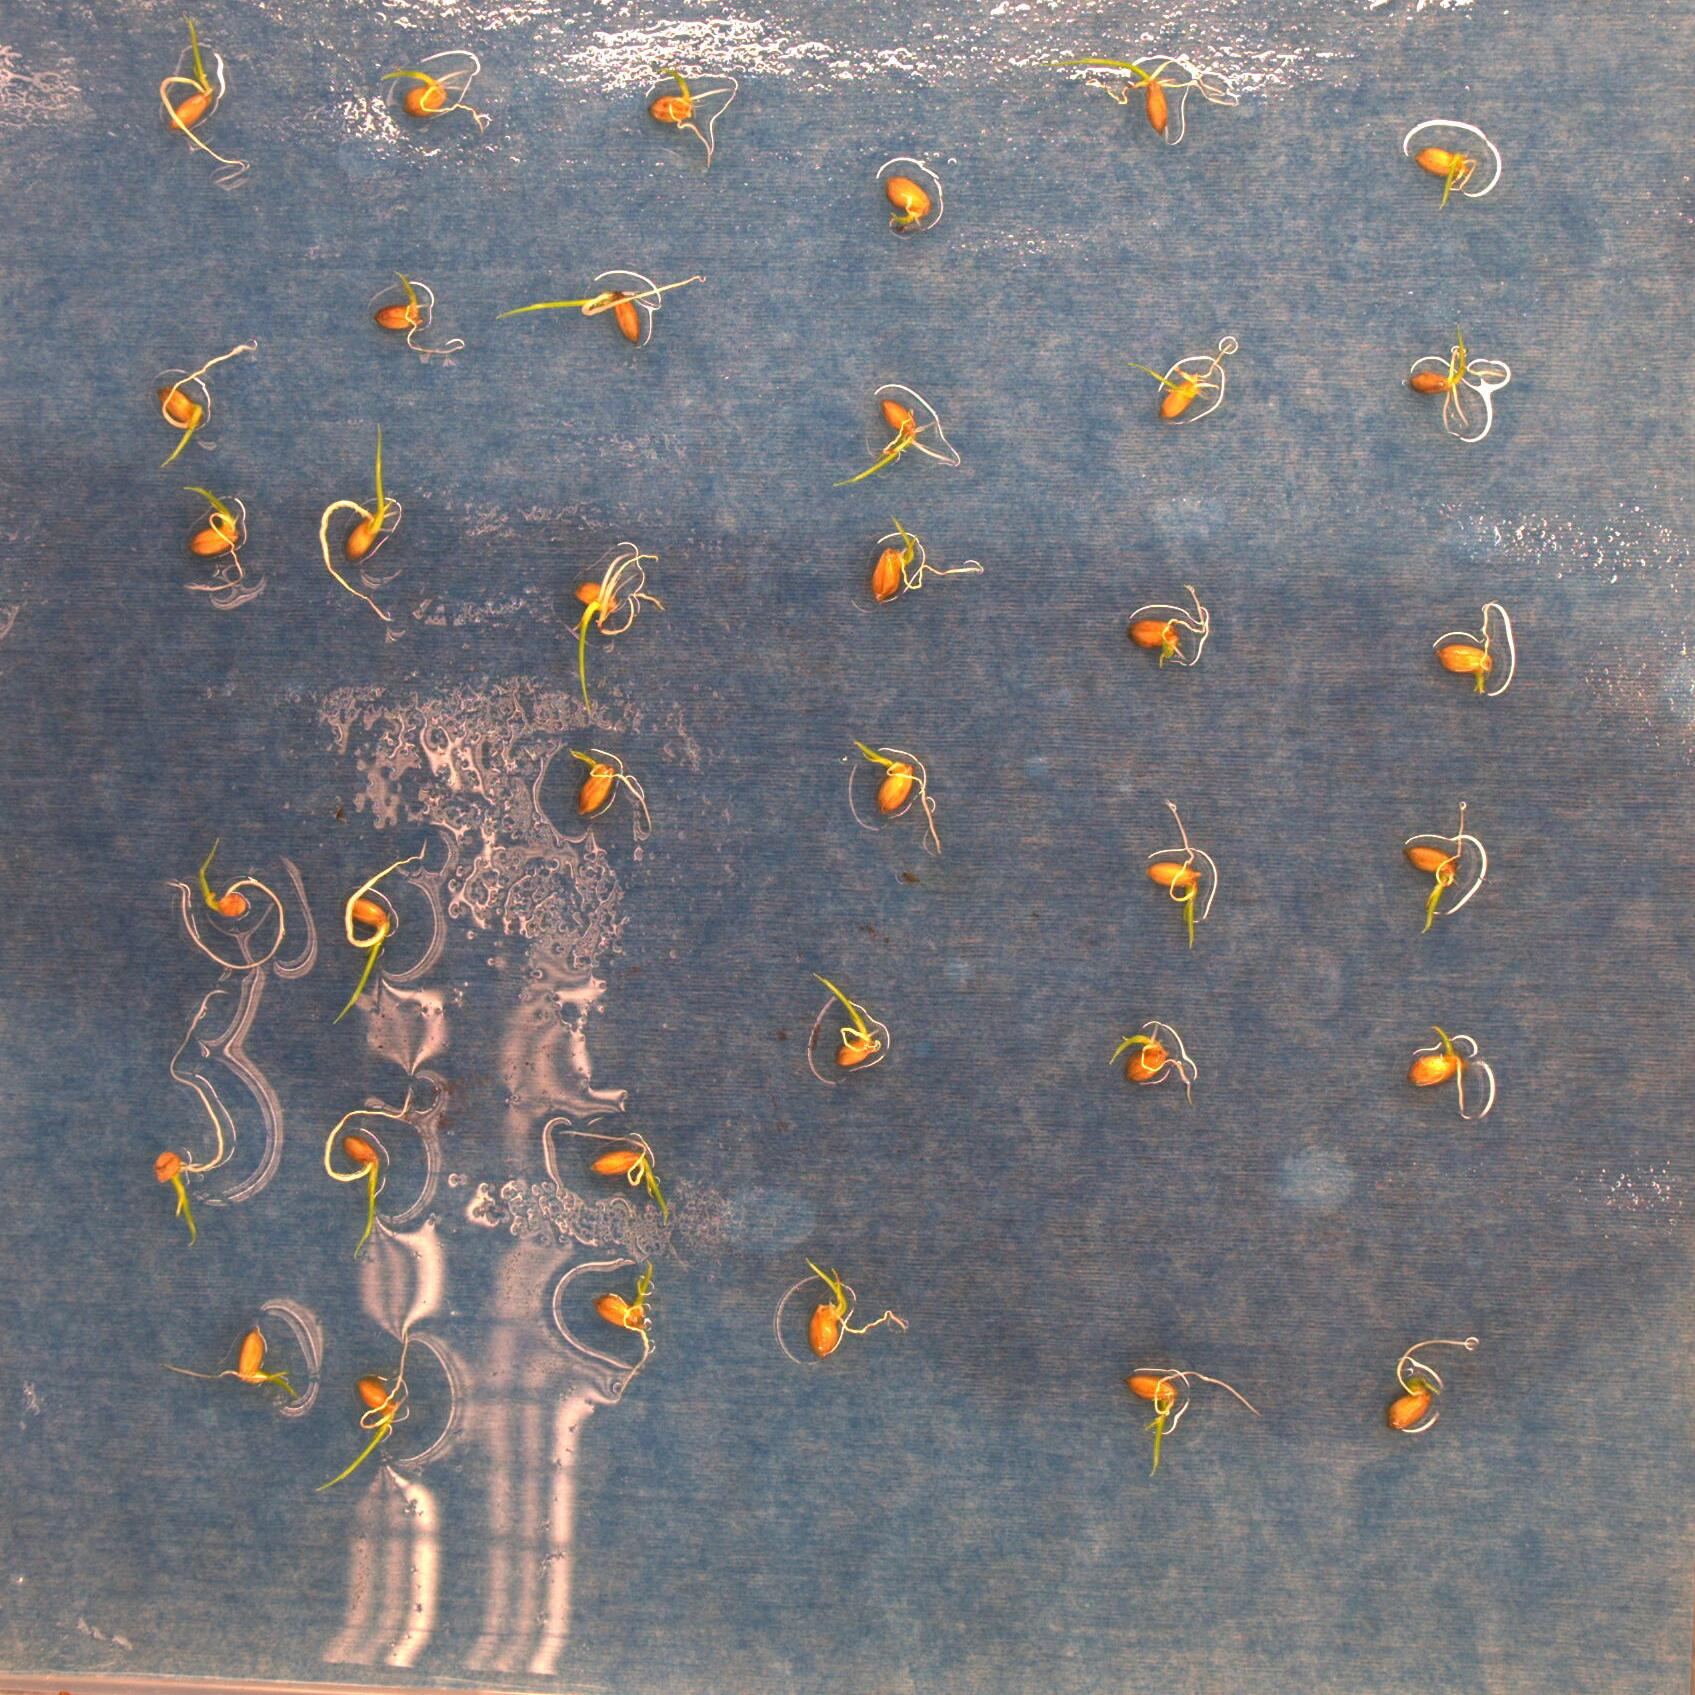not sprout: (1127, 340, 1232, 424), (1433, 602, 1507, 695), (1412, 144, 1482, 210), (882, 171, 941, 237)
sprout: (152, 987, 231, 1248), (331, 837, 428, 1026), (1042, 56, 1242, 147), (574, 528, 669, 719), (497, 269, 708, 346), (323, 1079, 413, 1260), (312, 1327, 408, 1493), (175, 450, 275, 610), (165, 837, 284, 969), (1128, 1360, 1260, 1479), (320, 421, 397, 621), (151, 334, 261, 470), (157, 16, 251, 172), (798, 1254, 911, 1363), (827, 399, 958, 490), (557, 1125, 669, 1226), (849, 737, 945, 854), (165, 1326, 303, 1406), (587, 1257, 667, 1395), (869, 509, 983, 604), (1409, 324, 1506, 432), (646, 64, 739, 168), (1400, 799, 1468, 938), (1108, 1004, 1198, 1108), (1146, 796, 1208, 947), (1386, 1340, 1484, 1434), (546, 740, 655, 821), (376, 269, 467, 357), (379, 65, 484, 137), (806, 972, 882, 1065), (1128, 587, 1212, 669), (1409, 1028, 1479, 1110)
